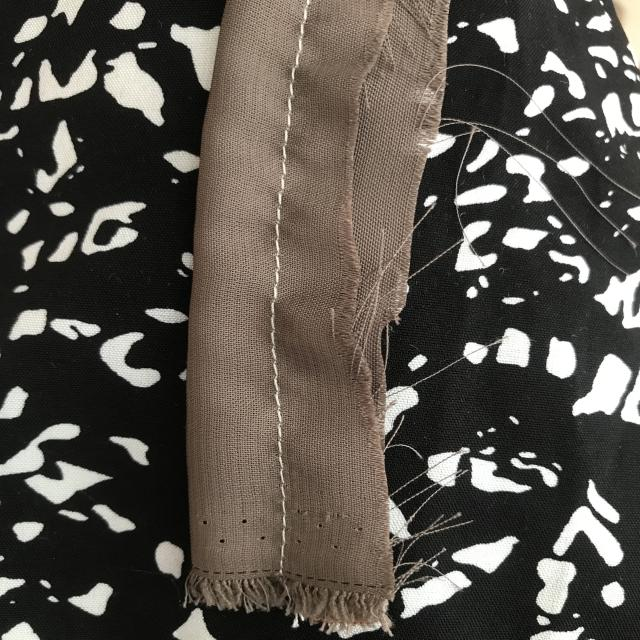good: (252, 302, 296, 420), (260, 432, 302, 522), (261, 202, 289, 285), (274, 100, 300, 177)
